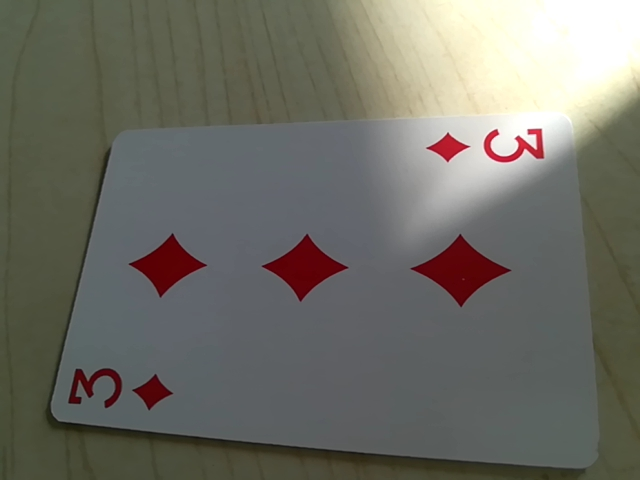fk 3: (56, 354, 177, 424), (417, 122, 551, 174)
